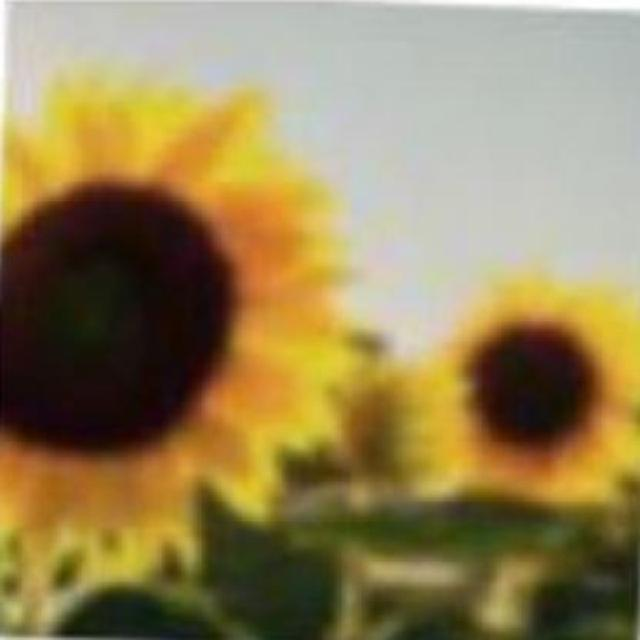sunflower: (1, 75, 356, 573), (391, 258, 640, 511)
